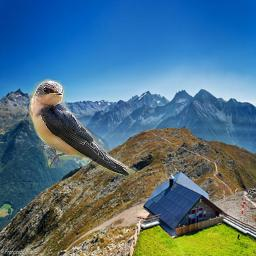Swallow: (29, 75, 140, 181)
